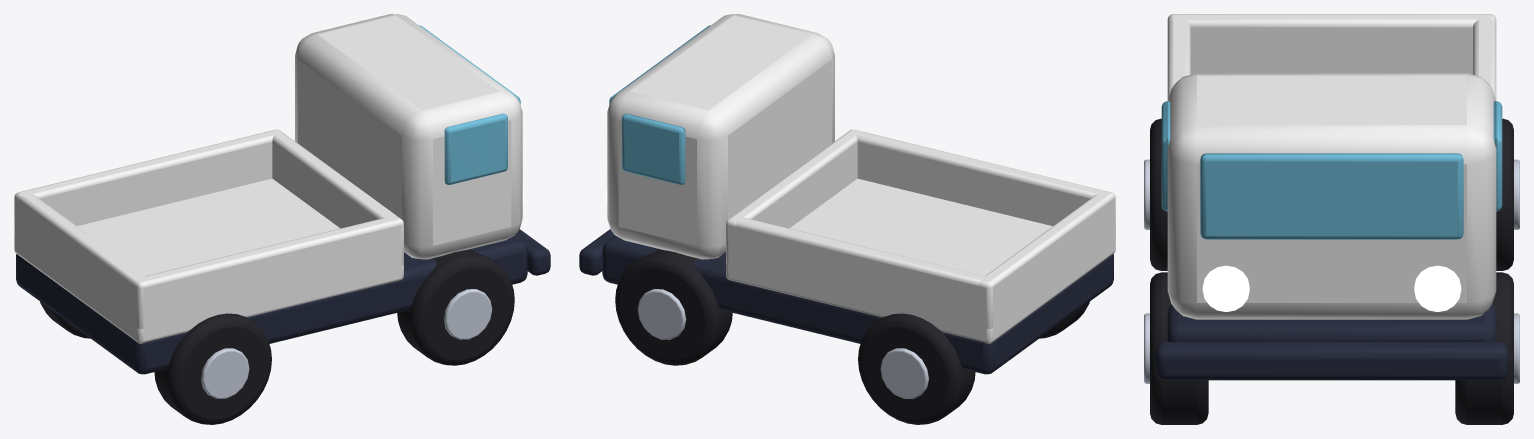
Rendered from truck.glb.
3 views of the same model, side by side, from view 1: azimuth 30°, elevation 25°; view 2: azimuth 150°, elevation 25°; view 3: azimuth 270°, elevation 25° (orthographic). The views are drawn at different scales.
Visible parts, largest first — view 1: Truck; view 2: Truck; view 3: Truck.
Boxes of the visible parts, bbox=[...] form: Truck: bbox=[14, 14, 550, 424]; Truck: bbox=[579, 14, 1115, 424]; Truck: bbox=[1144, 14, 1519, 424].
Size of the model in its own units: 1.04 by 0.61 by 0.64.
